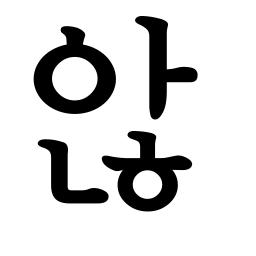Gaji: (136, 55, 182, 96)
